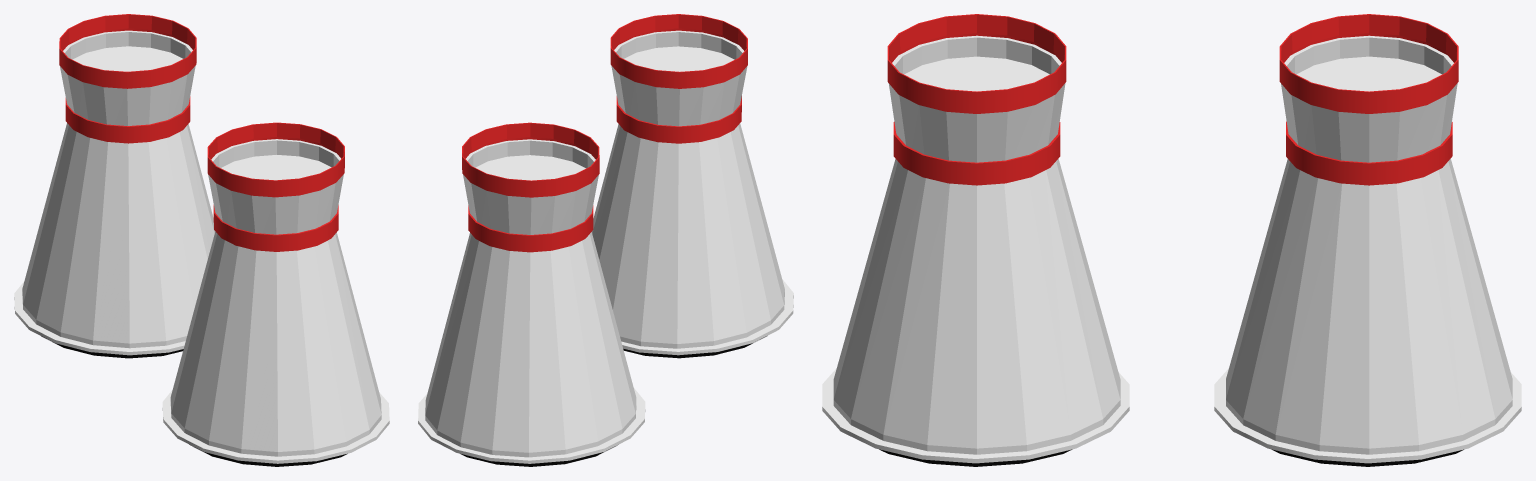
Rendered from Atom Plant 2.FBX.
3 views of the same model, side by side, from view 1: azimuth 30°, elevation 25°; view 2: azimuth 150°, elevation 25°; view 3: azimuth 270°, elevation 25° (orthographic). The views are drawn at different scales.
Visible parts, largest first — view 1: Cylinder009; view 2: Cylinder009; view 3: Cylinder009.
Boxes of the visible parts, x1,y1,x2,y2 form: Cylinder009: [14, 14, 389, 466]; Cylinder009: [418, 14, 793, 466]; Cylinder009: [822, 14, 1521, 466].
Size of the model in its own units: 44.4 by 58.39 by 103.
